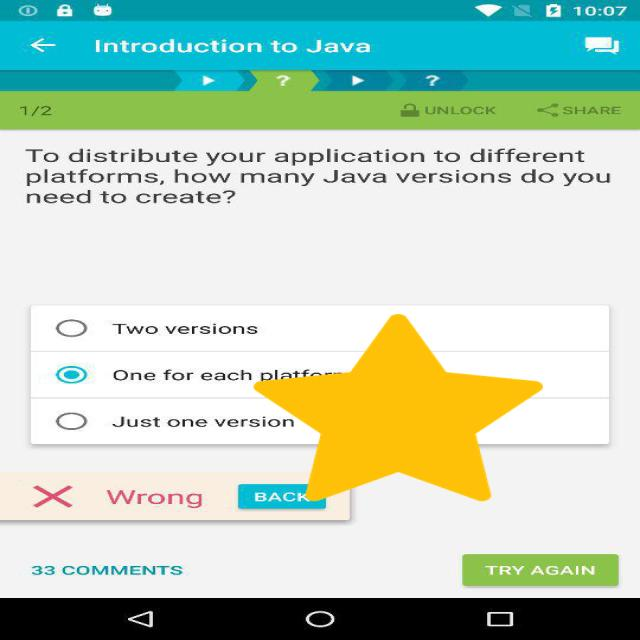forced continuity: (253, 314, 542, 501)
